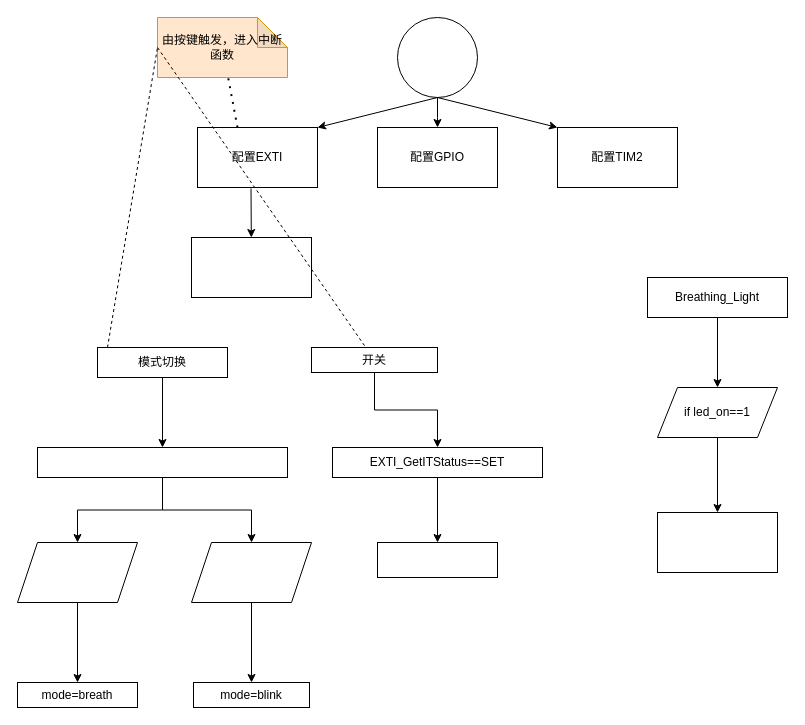
Image size: 805x725. Some labels were removed from this diagram. The centre of each missing label's shape, as x and y in pixels:
EXTI_Get_ITStatus==SET: the point at 162,462
if mode==blink: the point at 77,572
if mode==breath: the point at 251,572
led_on=!led_on: the point at 437,560
start: the point at 437,57
配置NVIC: the point at 251,267
